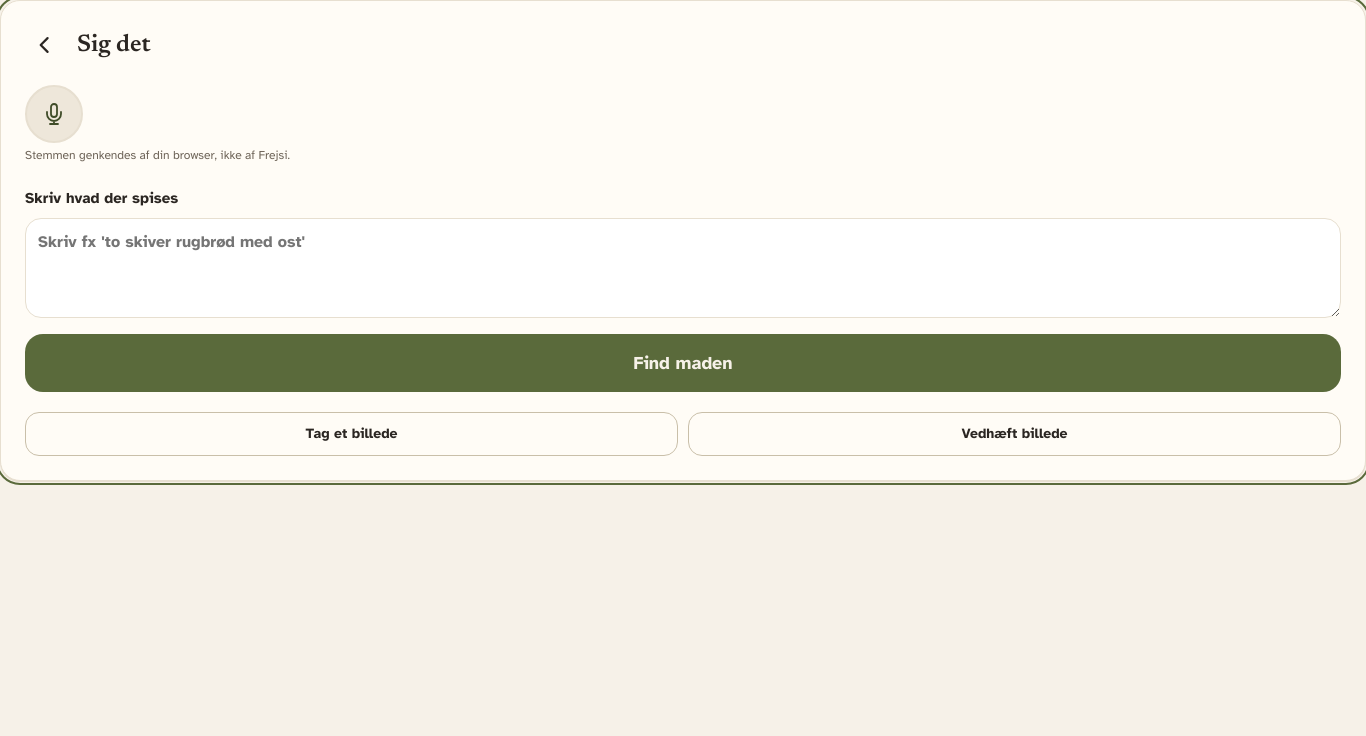
Scenario: invalidates parsed foods on a description edit, including after a failed retry
In the text box labelled "Skriv hvad der spises": (683, 268) x1=25 y1=218 x2=1341 y2=318, type "apple"
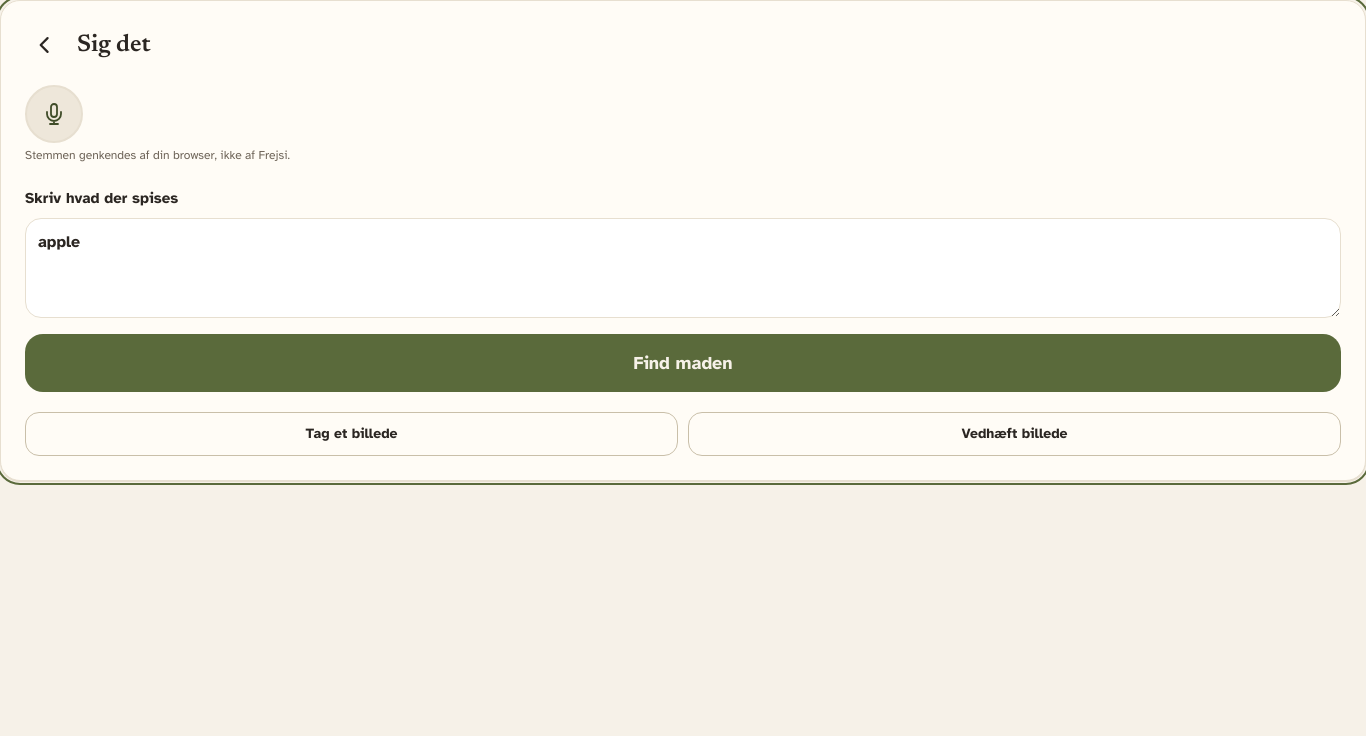
Click the button "Find maden": (683, 363) x1=25 y1=334 x2=1341 y2=392
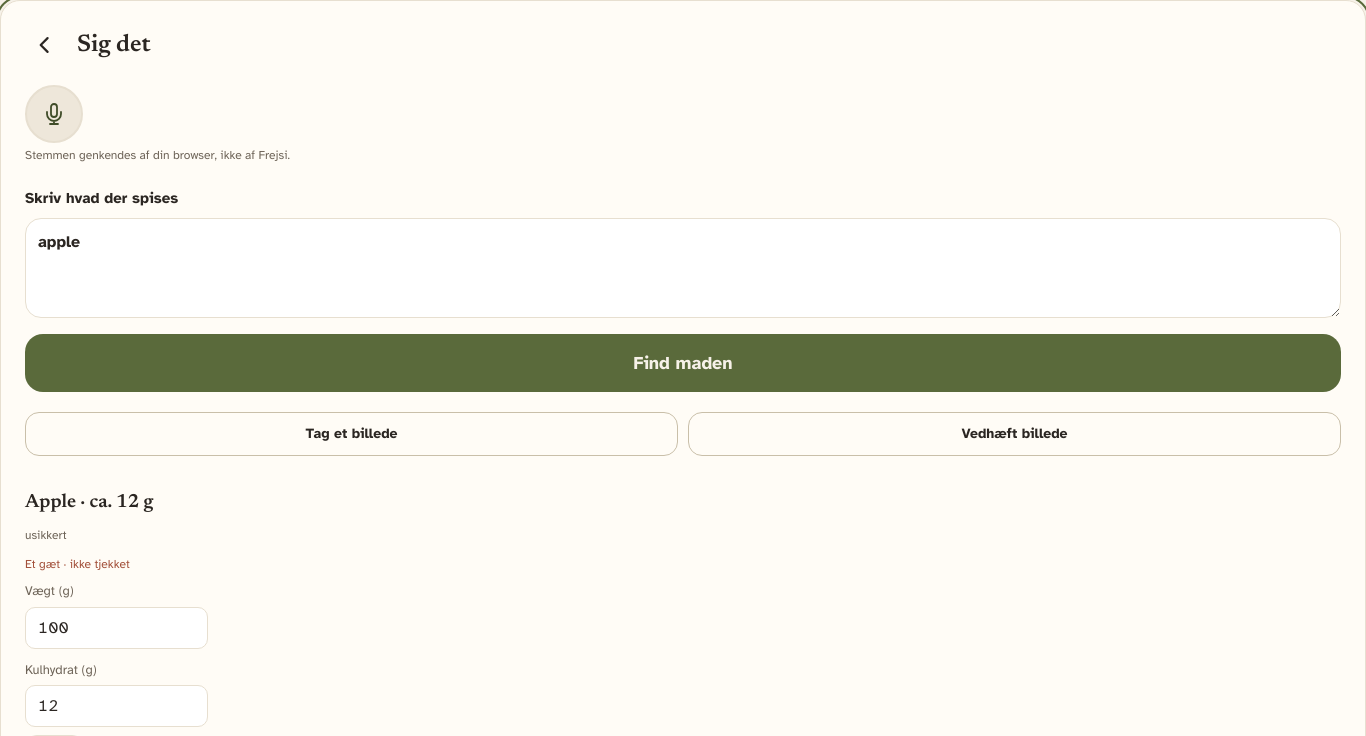
Expected: the heading "Apple · ca. 12 g" is shown, x1=25 y1=492 x2=153 y2=515
Replace the text in the text box labelled "Skriv hvad der spises" with "bread": (683, 268) x1=25 y1=218 x2=1341 y2=318
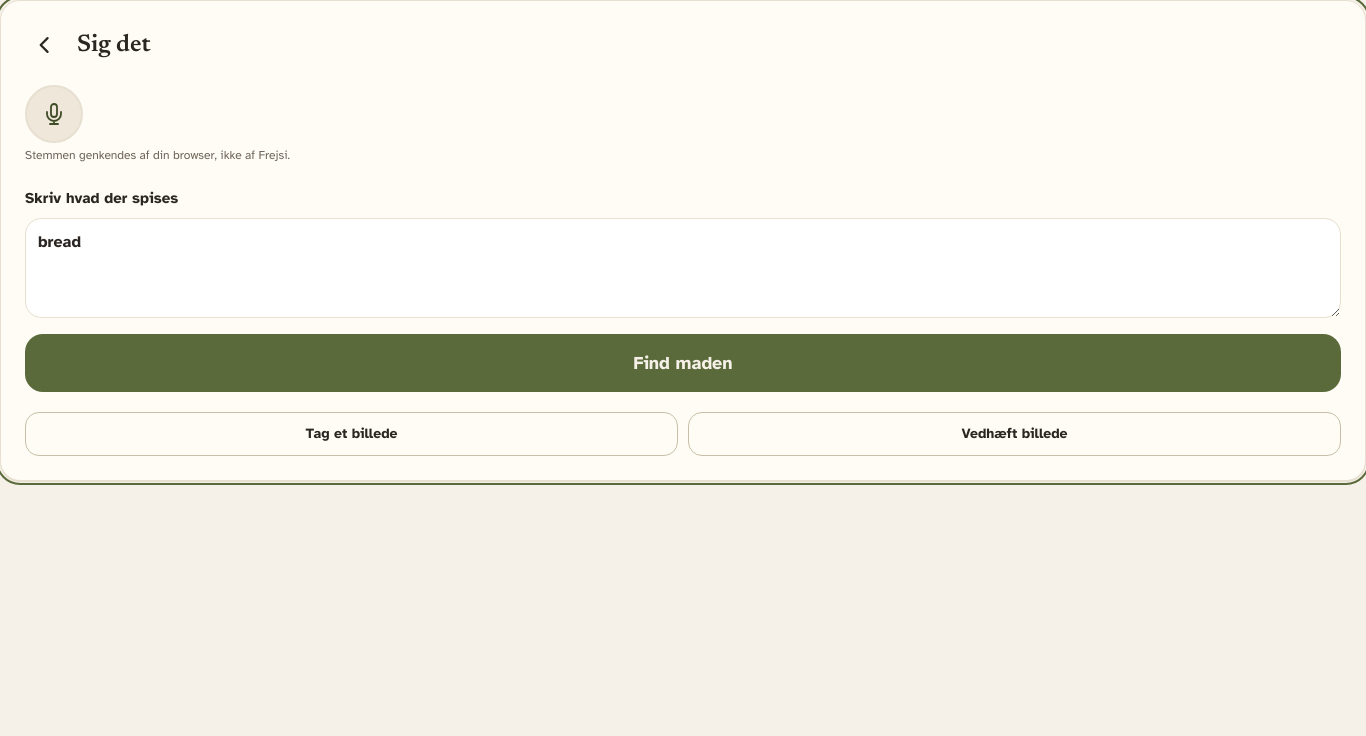
Expected: the heading "Apple · ca. 12 g" is gone
Click the button "Find maden": (683, 363) x1=25 y1=334 x2=1341 y2=392
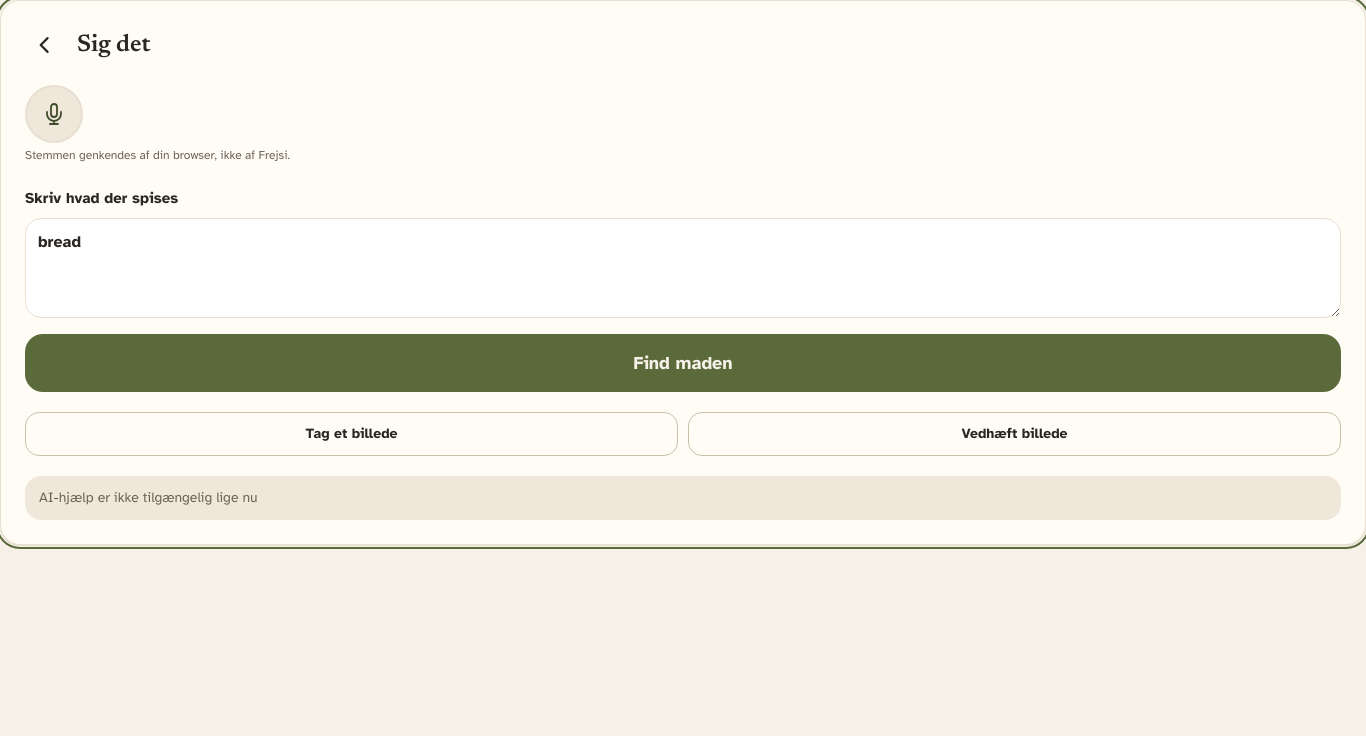
Expected: the text "AI-hjælp er ikke tilgængelig lige nu" is shown, x1=25 y1=476 x2=1341 y2=520
